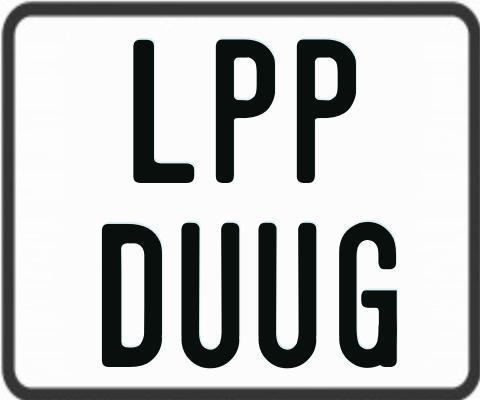D: (100, 222, 161, 371)
G: (337, 222, 401, 368)
L: (130, 37, 192, 186)
P: (215, 36, 279, 184), (294, 37, 354, 181)
U: (180, 222, 244, 370), (257, 223, 319, 372)
